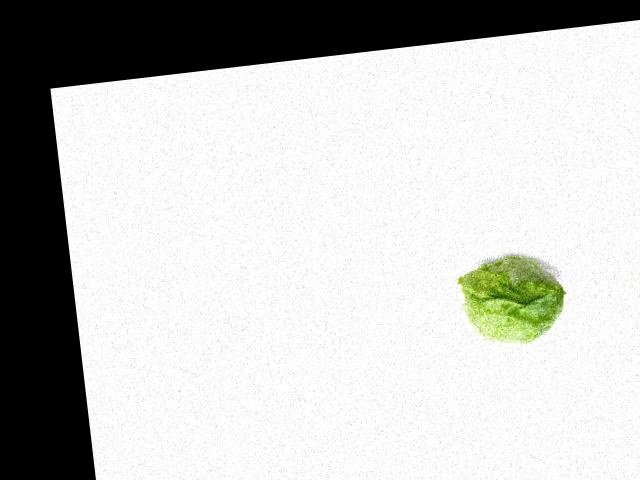lettuce: (456, 245, 570, 356)
